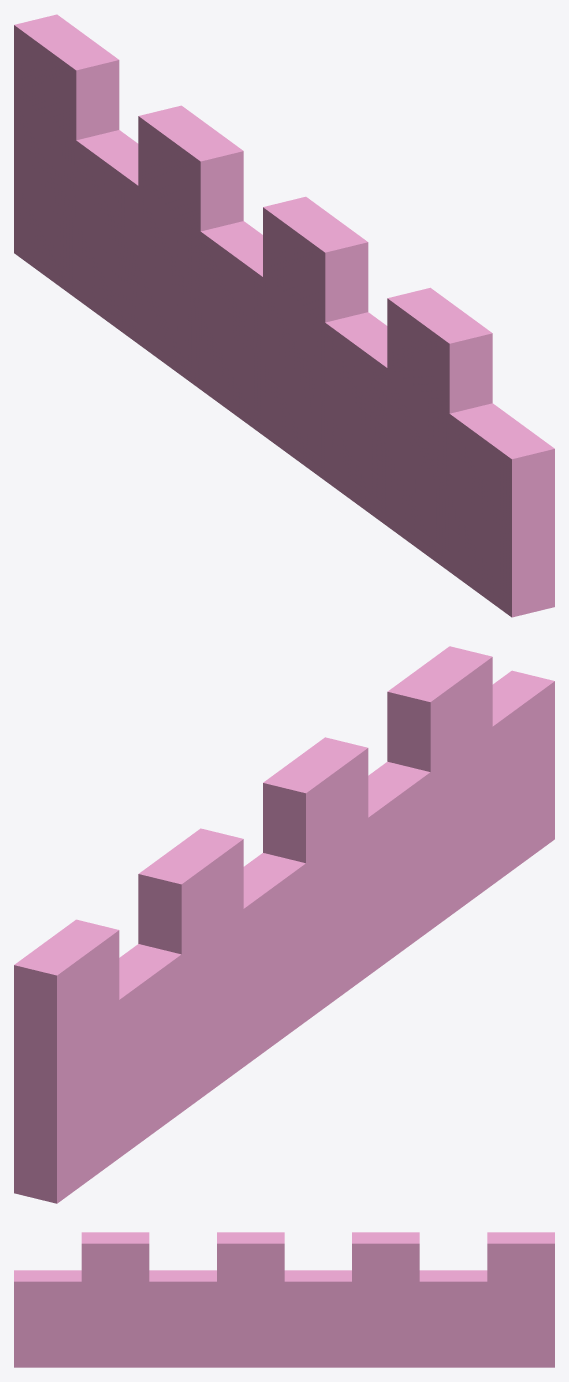
The model's file is castle walls 23.fbx.
3 renders of one model, top to bottom at view 1: azimuth 30°, elevation 25°; view 2: azimuth 150°, elevation 25°; view 3: azimuth 270°, elevation 25°, orthographic. The views are drawn at different scales.
Visible parts, largest first — view 1: Cube.111; view 2: Cube.111; view 3: Cube.111.
Boxes of the visible parts, x1,y1,x2,y2 form: Cube.111: [14, 14, 554, 617]; Cube.111: [14, 646, 554, 1203]; Cube.111: [14, 1232, 554, 1367].
Size of the model in its own units: 30 by 152 by 600.
